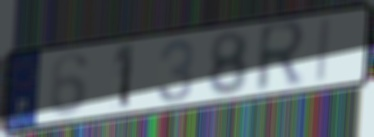1: (112, 40, 136, 113)
3: (156, 36, 197, 104)
6: (47, 50, 90, 119)
8: (205, 29, 249, 98)
I: (313, 15, 334, 86)
R: (253, 17, 310, 97)
